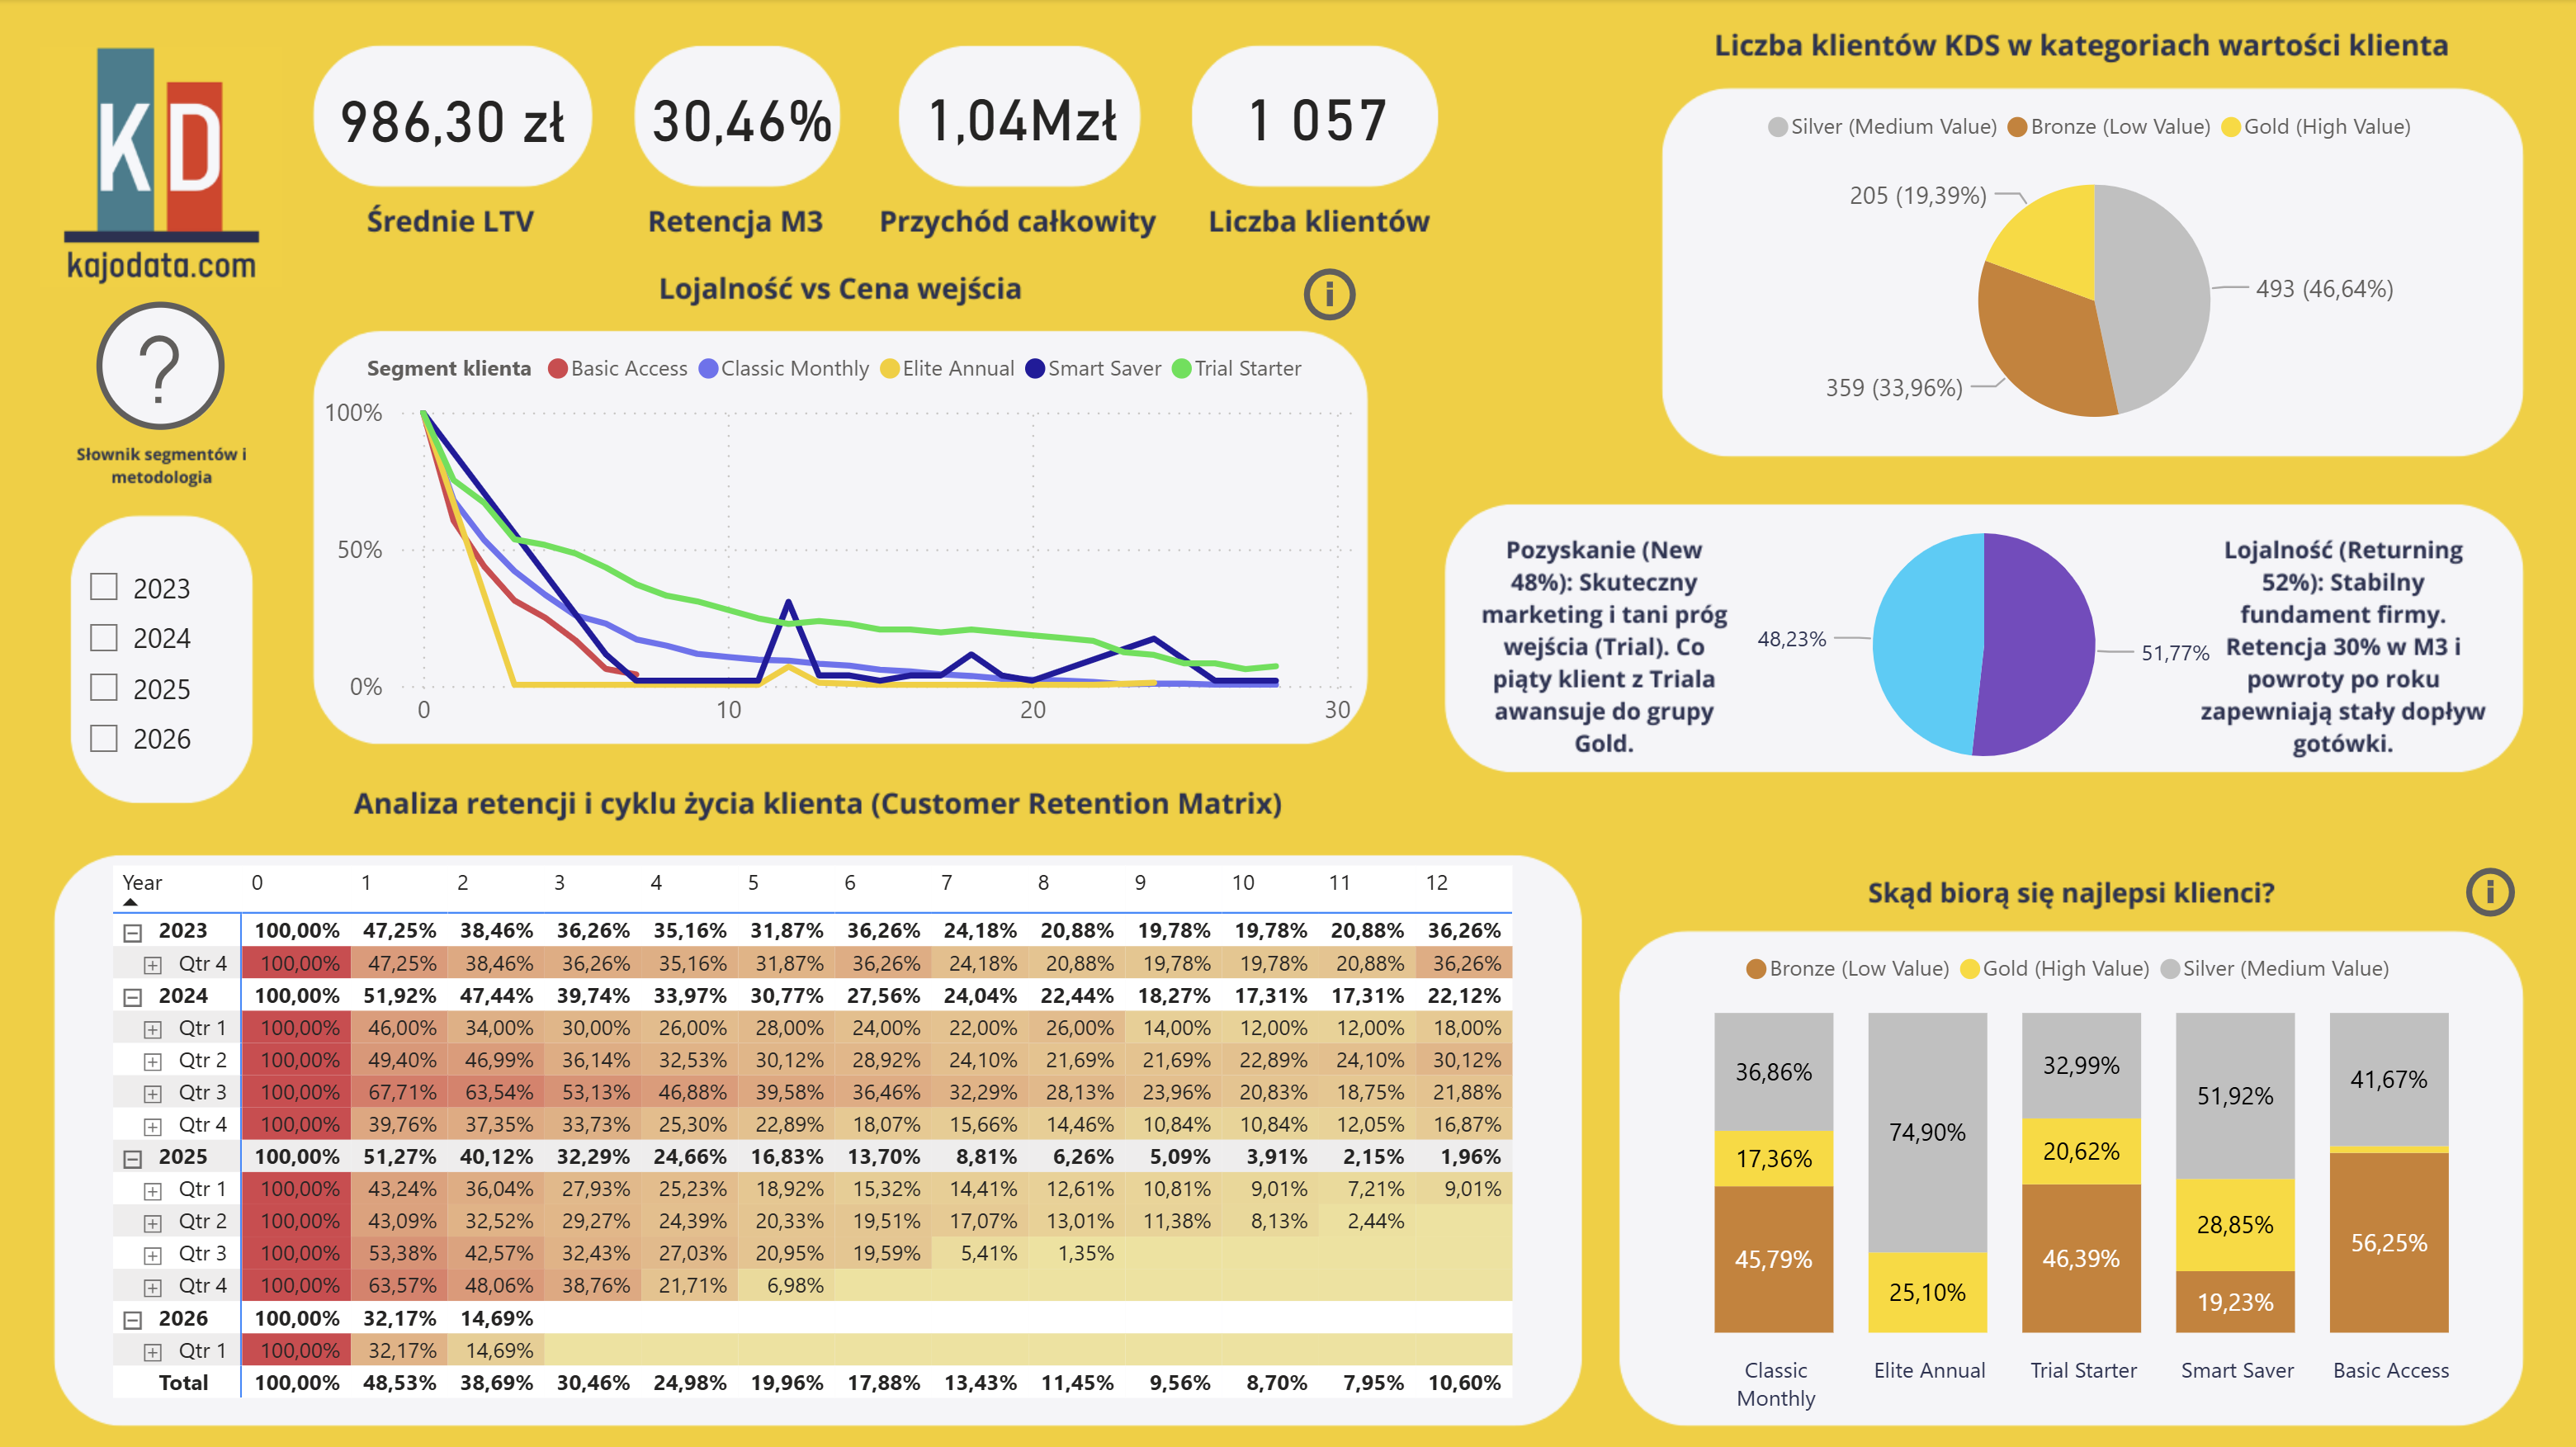

What the dashboard file says about the page in this screenshot:
{"tool":"powerbi","page":{"name":"Dashboard","canvas":[1280,720],"ordinal":0},"visuals":[{"type":"pivotTable","fields":{"Rows":["kds_challenge kds_final_data.cohort_month.Variation.Date Hierarchy.Year","kds_challenge kds_final_data.cohort_month.Variation.Date Hierarchy.Quarter","kds_challenge kds_final_data.cohort_month.Variation.Date Hierarchy.Month","kds_challenge kds_final_data.cohort_month.Variation.Date Hierarchy.Day"],"Columns":["kds_challenge kds_final_data.month_number"],"Values":["Measures Table.% Retention"]},"box":[51.6,424.3,733.1,283.7],"z":0},{"type":"lineChart","title":"Wykres lojalności względem kwoty wejścia do KDS","fields":{"Category":["kds_challenge kds_final_data.month_number"],"Y":["kds_challenge kds_final_data.% Retention"],"Series":["kds_challenge kds_final_data.entry_segment"]},"box":[155.3,163.9,523.1,206.3],"z":1000},{"type":"slicer","fields":{"Values":["kds_challenge kds_final_data.cohort_month.Variation.Date Hierarchy.Year"]},"box":[32.7,273.6,92.9,121.2],"z":2000},{"type":"hundredPercentStackedColumnChart","title":"Wartość LTV (Lifetime Value) w zależności od segmentu klienta","fields":{"Category":["kds_challenge kds_final_data.entry_segment"],"Series":["kds_challenge kds_final_data.customer_tier"],"Y":["Measures Table.Total Customers"]},"box":[804.3,461.7,448.2,246.2],"z":3000},{"type":"card","fields":{"Values":["kds_challenge kds_final_data.LTV"]},"box":[155.3,23.3,138.8,70],"z":4000},{"type":"card","fields":{"Values":["kds_challenge kds_final_data.KPI_Retention_M3"]},"box":[313.3,23.3,110.8,69.2],"z":5000},{"type":"pieChart","fields":{"Category":["kds_challenge kds_final_data.customer_segment"],"Y":["Sum(kds_challenge kds_final_data.amount)"]},"box":[785,244.2,398.3,150.8],"z":6000},{"type":"pieChart","fields":{"Category":["kds_challenge kds_final_data.customer_tier"],"Y":["Measures Table.Total Customers"]},"box":[825.8,44.2,426.7,183.3],"z":7000},{"type":"card","fields":{"Values":["kds_challenge kds_final_data.Total Customers"]},"box":[591.7,22.5,122.5,70],"z":8000},{"type":"card","fields":{"Values":["kds_challenge kds_final_data.Total Revenue"]},"box":[447,22.7,119.7,70],"z":9000},{"type":"actionButton","box":[642.8,128.9,35.6,35],"z":11000},{"type":"actionButton","box":[40.5,141.2,79.8,81.7],"z":12000},{"type":"actionButton","box":[1219.4,424.3,33.2,37.5],"z":14000}]}

Visuals, with their boxes in screenshot pixels (x1, y1, x2, y2), scaled from the page's 1280x720 canvas onto the 2576x1447 screenshot:
pivotTable - kds_challenge kds_final_data.cohort_month.Variation.Date Hierarchy.Year x kds_challenge kds_final_data.cohort_month.Variation.Date Hierarchy.Quarter: (left=104, top=853, right=1579, bottom=1423)
"Wykres lojalności względem kwoty wejścia do KDS" lineChart: (left=313, top=329, right=1365, bottom=744)
slicer - kds_challenge kds_final_data.cohort_month.Variation.Date Hierarchy.Year: (left=66, top=550, right=253, bottom=793)
"Wartość LTV (Lifetime Value) w zależności od segmentu klienta" hundredPercentStackedColumnChart: (left=1619, top=928, right=2521, bottom=1423)
card - kds_challenge kds_final_data.LTV: (left=313, top=47, right=592, bottom=187)
card - kds_challenge kds_final_data.KPI_Retention_M3: (left=631, top=47, right=853, bottom=186)
pieChart - kds_challenge kds_final_data.customer_segment x Sum(kds_challenge kds_final_data.amount): (left=1580, top=491, right=2381, bottom=794)
pieChart - kds_challenge kds_final_data.customer_tier x Measures Table.Total Customers: (left=1662, top=89, right=2521, bottom=457)
card - kds_challenge kds_final_data.Total Customers: (left=1191, top=45, right=1437, bottom=186)
card - kds_challenge kds_final_data.Total Revenue: (left=900, top=45, right=1141, bottom=187)
actionButton: (left=1293, top=259, right=1365, bottom=329)
actionButton: (left=82, top=284, right=242, bottom=448)
actionButton: (left=2454, top=853, right=2521, bottom=928)
